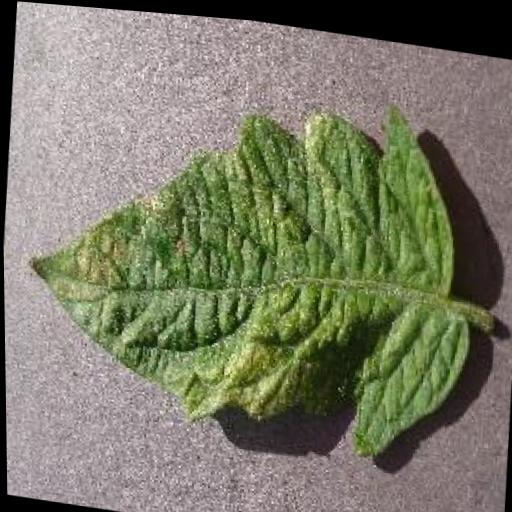Spider Mites: (13, 56, 487, 469)
